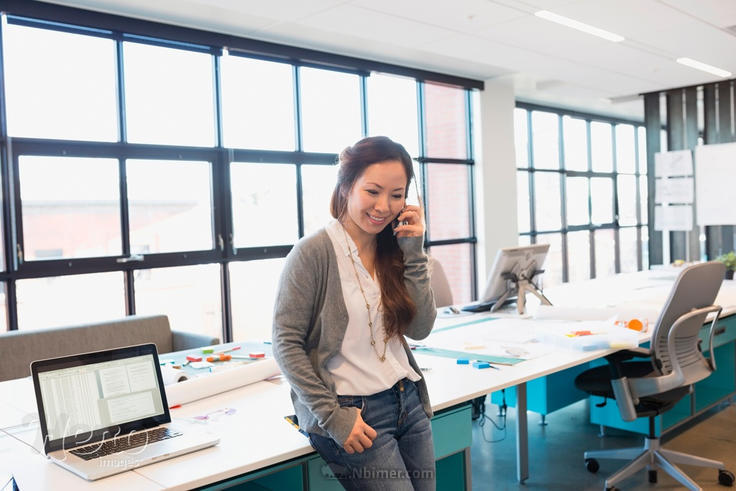phone: (386, 198, 420, 248)
talk: (353, 180, 433, 257)
